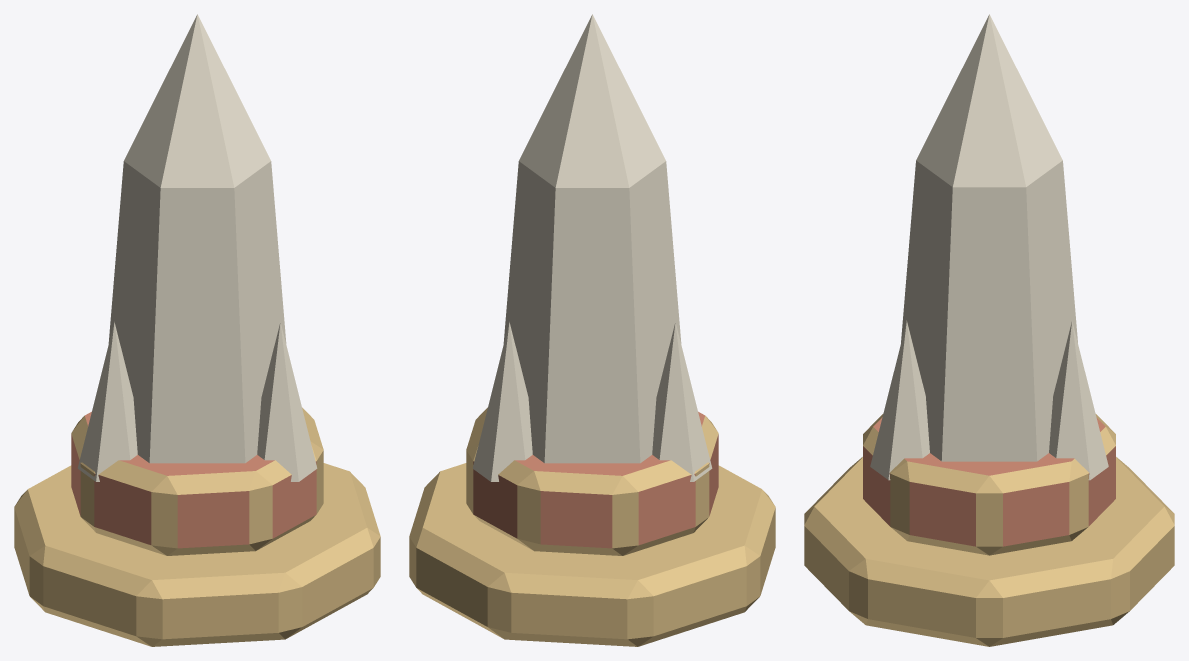
Rendered from TH_Top_Crystal.fbx.
3 renders of one model, left to right at view 1: azimuth 30°, elevation 25°; view 2: azimuth 150°, elevation 25°; view 3: azimuth 270°, elevation 25°, orthographic.
Visible parts, largest first — view 1: TH_Top_Crystal; view 2: TH_Top_Crystal; view 3: TH_Top_Crystal.
Part boxes in pixels (<box>): TH_Top_Crystal: <box>14,14,380,646</box>; TH_Top_Crystal: <box>409,14,775,646</box>; TH_Top_Crystal: <box>804,14,1174,646</box>.
Size of the model in its own units: 0.5047 by 0.84 by 0.5047.
